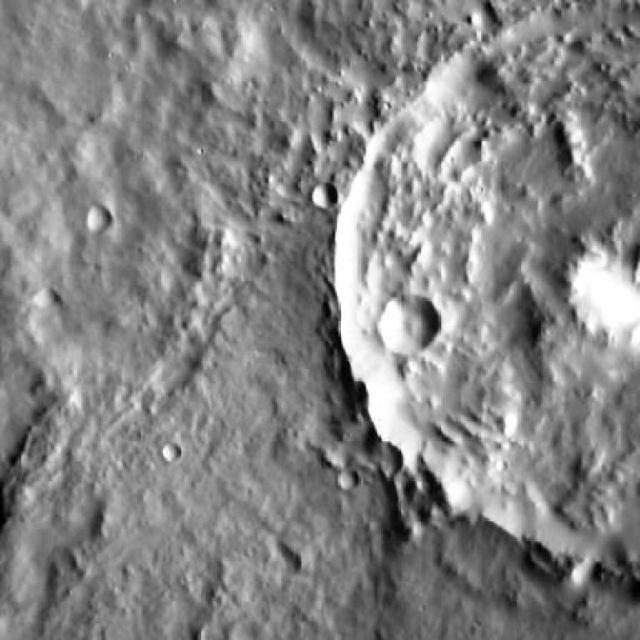crater: (323, 21, 640, 564), (371, 302, 429, 361), (90, 208, 115, 232), (338, 473, 359, 495), (27, 291, 48, 312), (316, 188, 336, 208), (159, 444, 176, 462)
